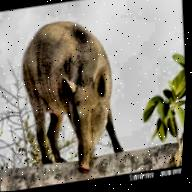boar: (9, 11, 133, 182)
